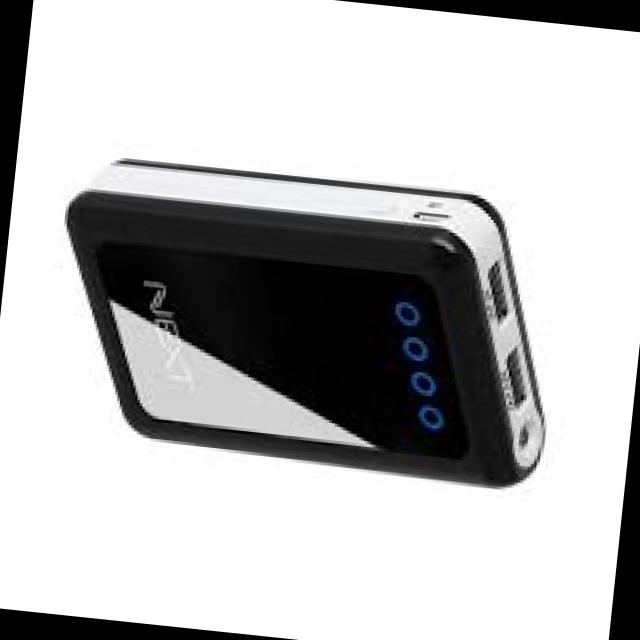power_bank: (37, 146, 570, 486)
